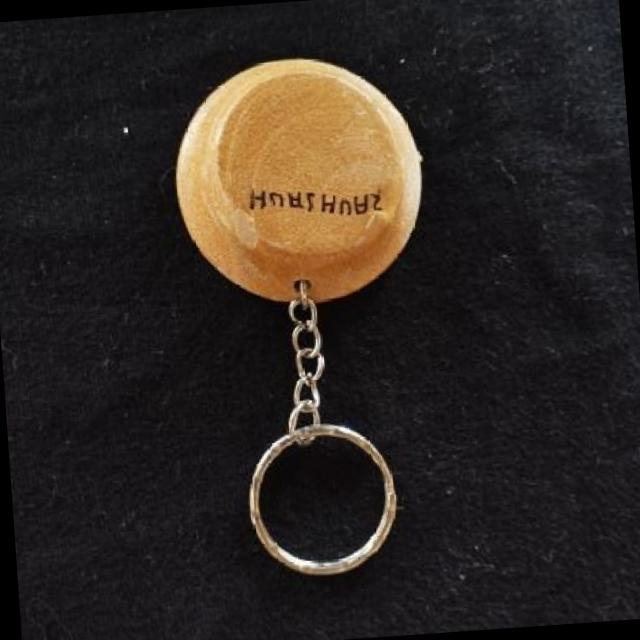Llavero: (165, 48, 433, 314)
